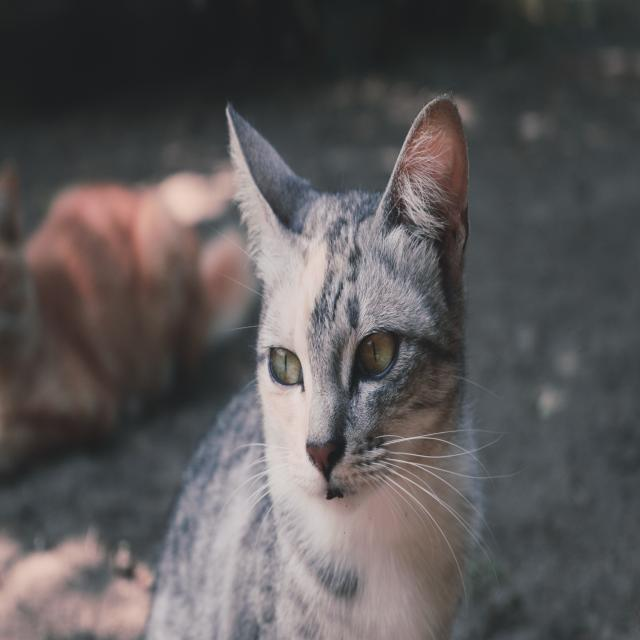animal: (148, 101, 479, 640)
